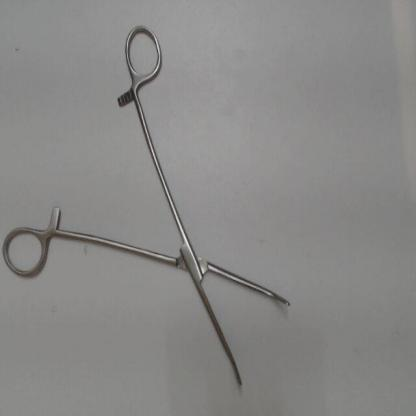Lahey Forceps: (0, 21, 300, 392)
